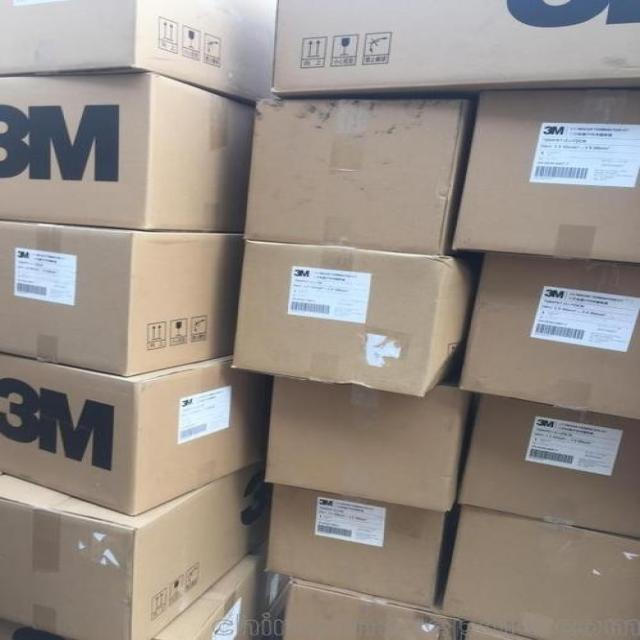box: (2, 467, 273, 638), (1, 352, 275, 514), (231, 235, 488, 395), (0, 76, 256, 231), (243, 90, 480, 256), (0, 219, 243, 375), (276, 1, 639, 101), (446, 85, 639, 258), (260, 365, 479, 516), (460, 254, 636, 422), (1, 1, 279, 105), (435, 504, 637, 638), (454, 395, 639, 538), (264, 484, 451, 605), (262, 572, 464, 637), (156, 544, 263, 639), (460, 617, 520, 639)
